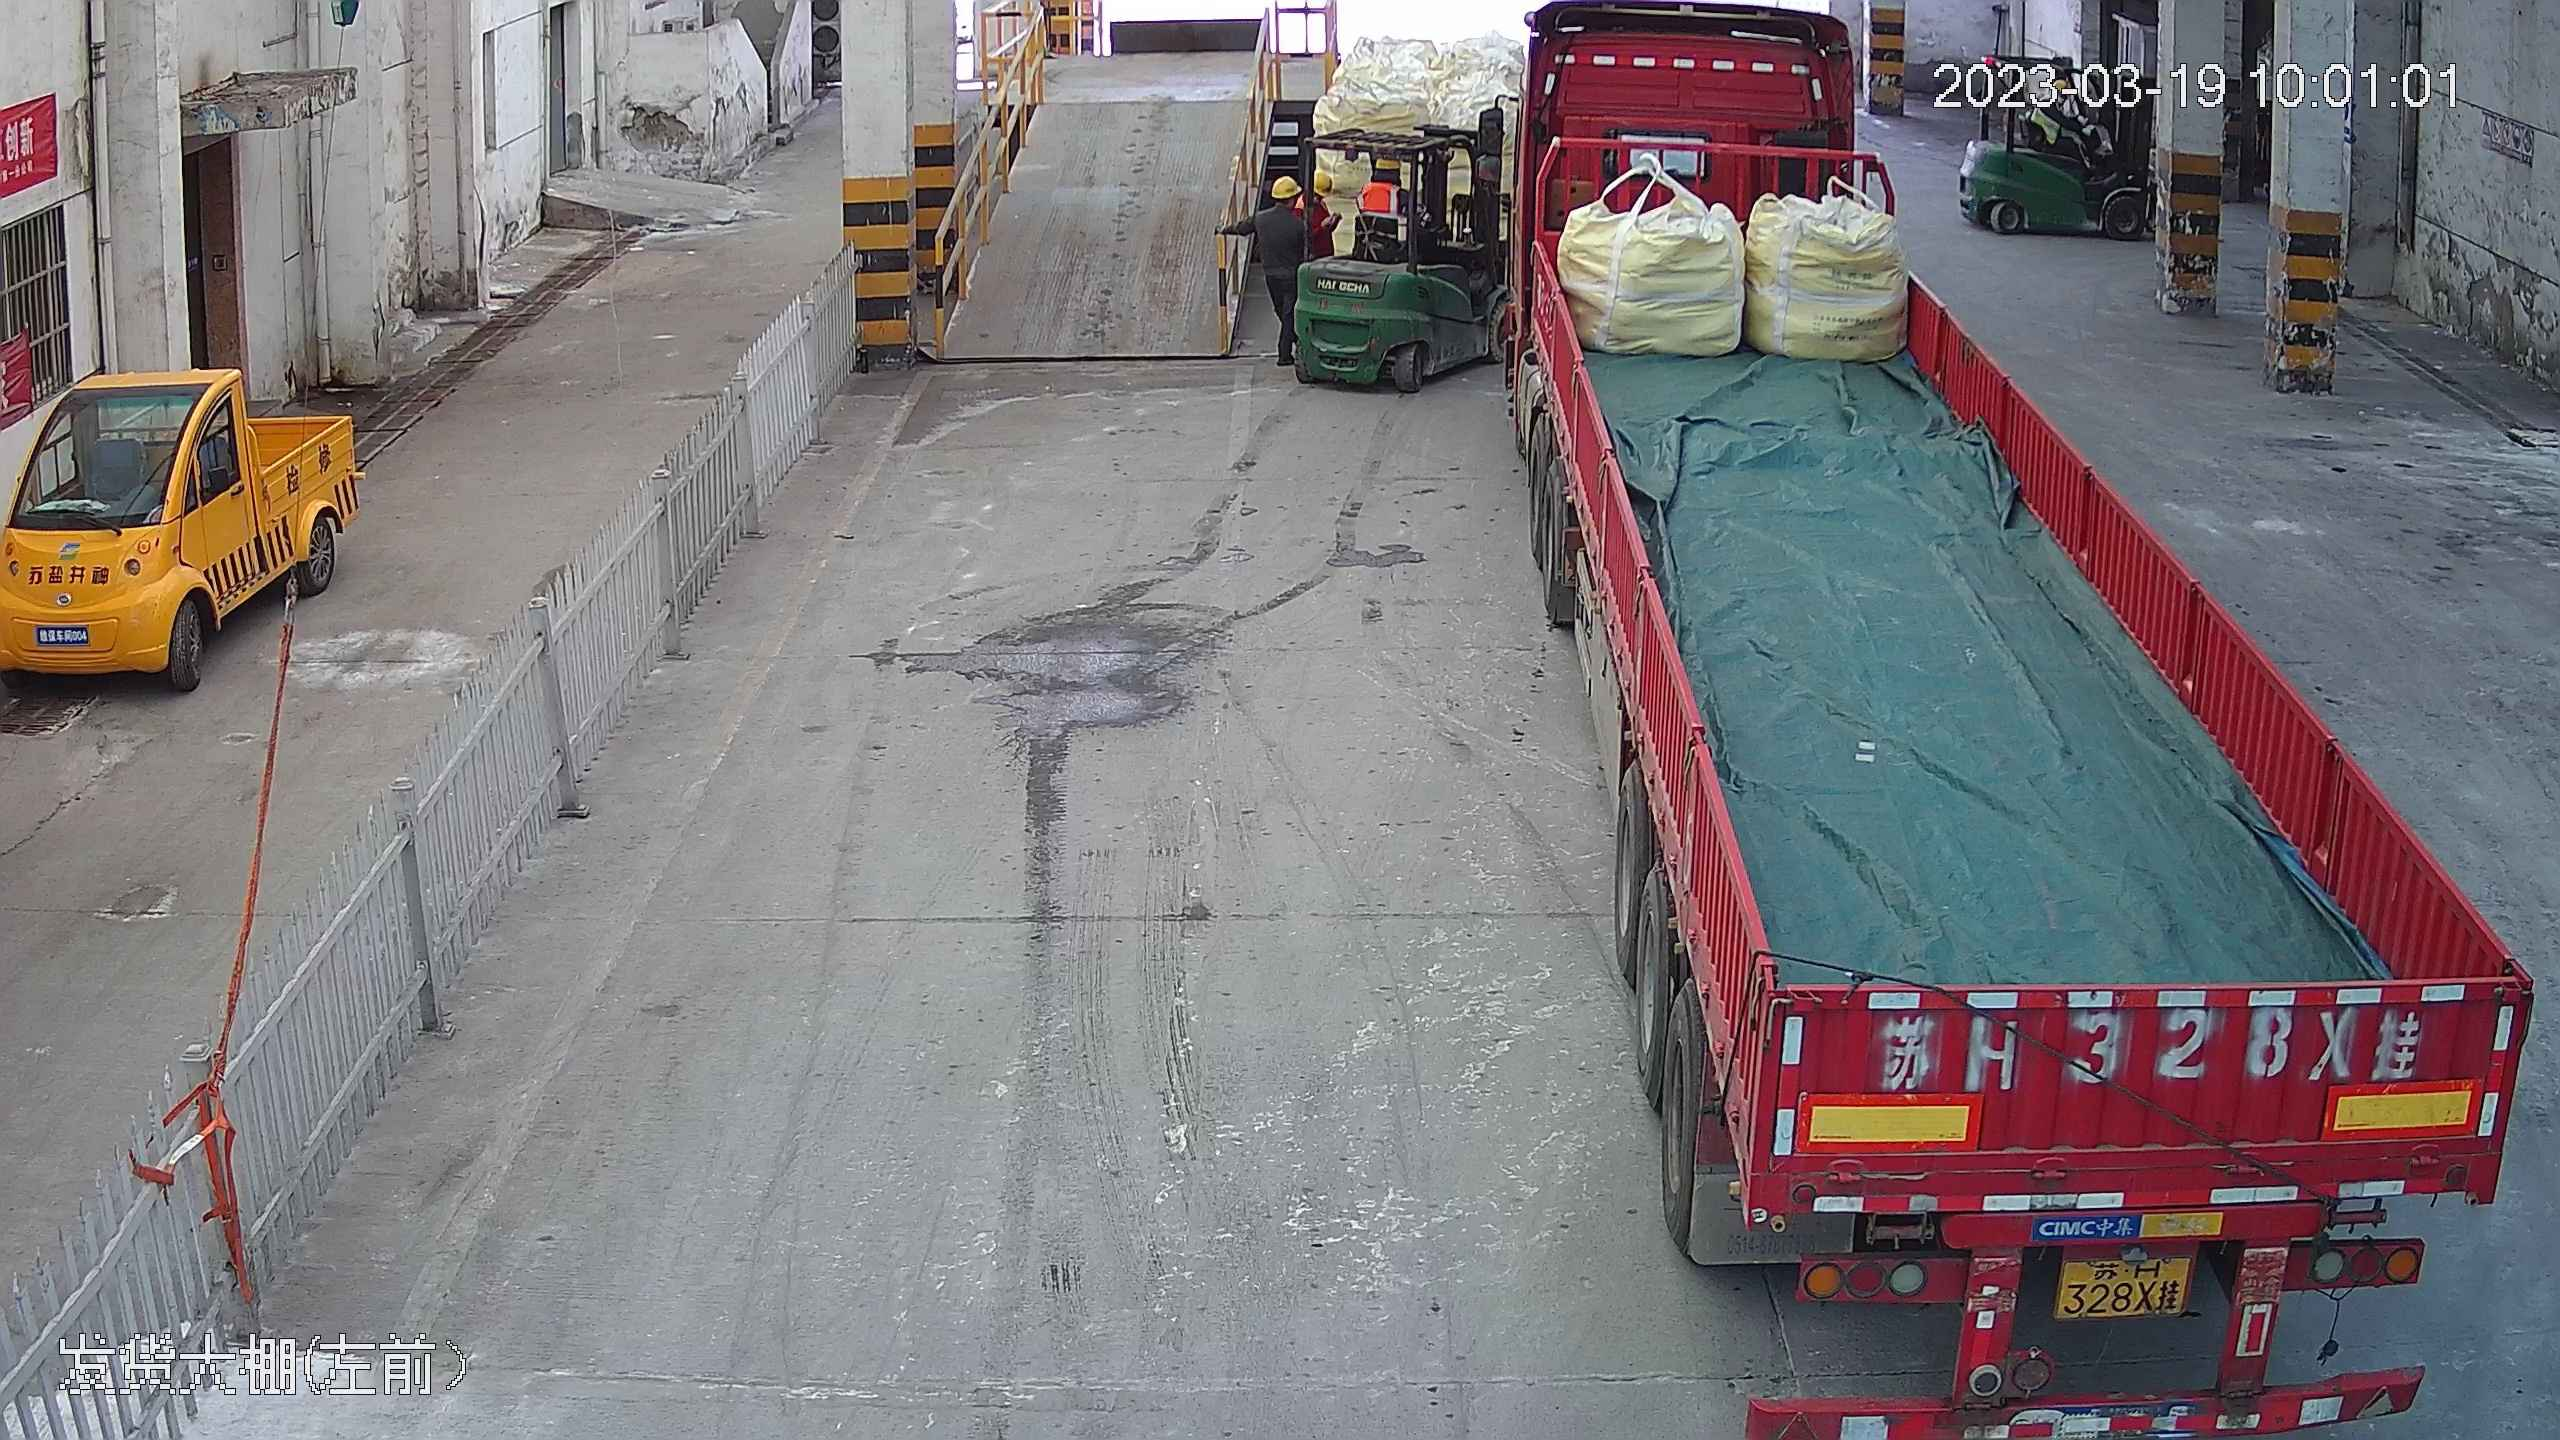head: (1254, 175, 1313, 236), (1355, 158, 1407, 213)
helmet: (1270, 173, 1304, 198), (1313, 169, 1333, 198), (1373, 158, 1402, 170)
people: (1245, 170, 1316, 361)
truck: (1491, 1, 2556, 1431)
